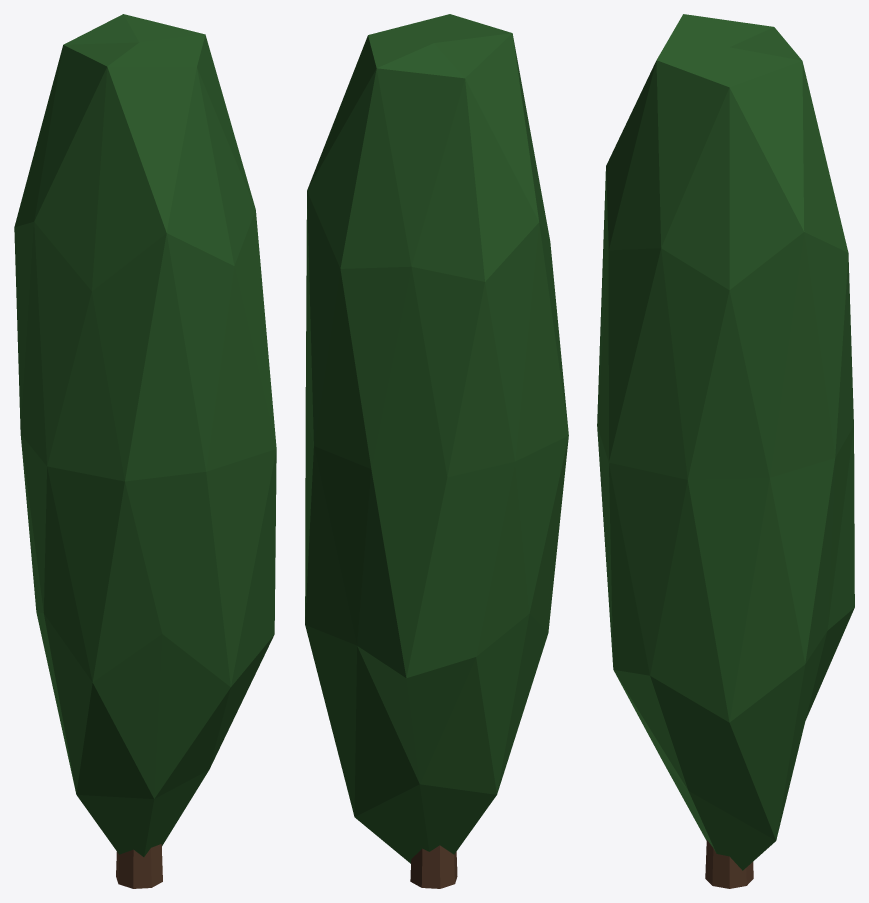
File: cypress.glb
3 renders of one model, left to right at view 1: azimuth 30°, elevation 25°; view 2: azimuth 150°, elevation 25°; view 3: azimuth 270°, elevation 25°, orthographic.
Visible parts, largest first — view 1: cypress; view 2: cypress; view 3: cypress.
Boxes of the visible parts, left/top/right/bottom form: cypress: left=14, top=14, right=276, bottom=888; cypress: left=305, top=14, right=568, bottom=888; cypress: left=597, top=14, right=854, bottom=888.
Bounding box in the file's own units: 1.72 × 6.13 × 1.7.
